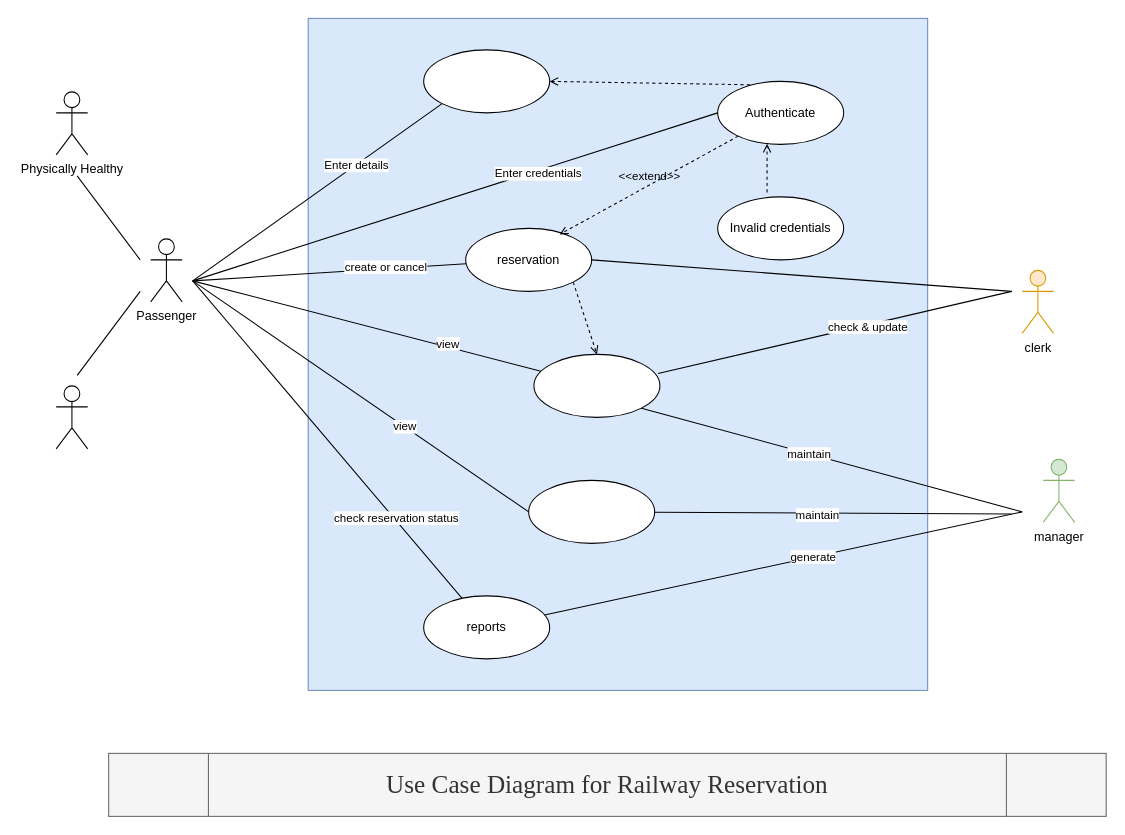
This 1125x835 diagram has some shape labels left out. Here are the shapes that lost their labels. From the top down, the centre of each, then its label:
pixel 486 81: register
pixel 596 385: reservation details
pixel 71 417: Physically Disabled
pixel 591 511: train schedule
